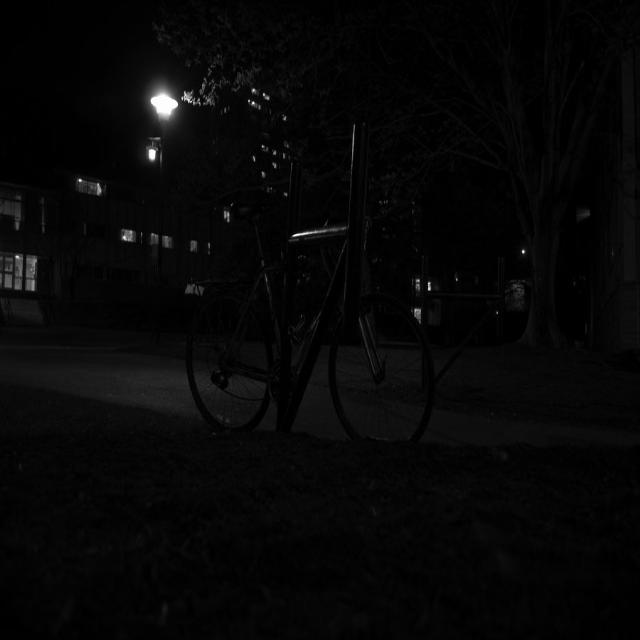Bicycle: (175, 157, 445, 485)
